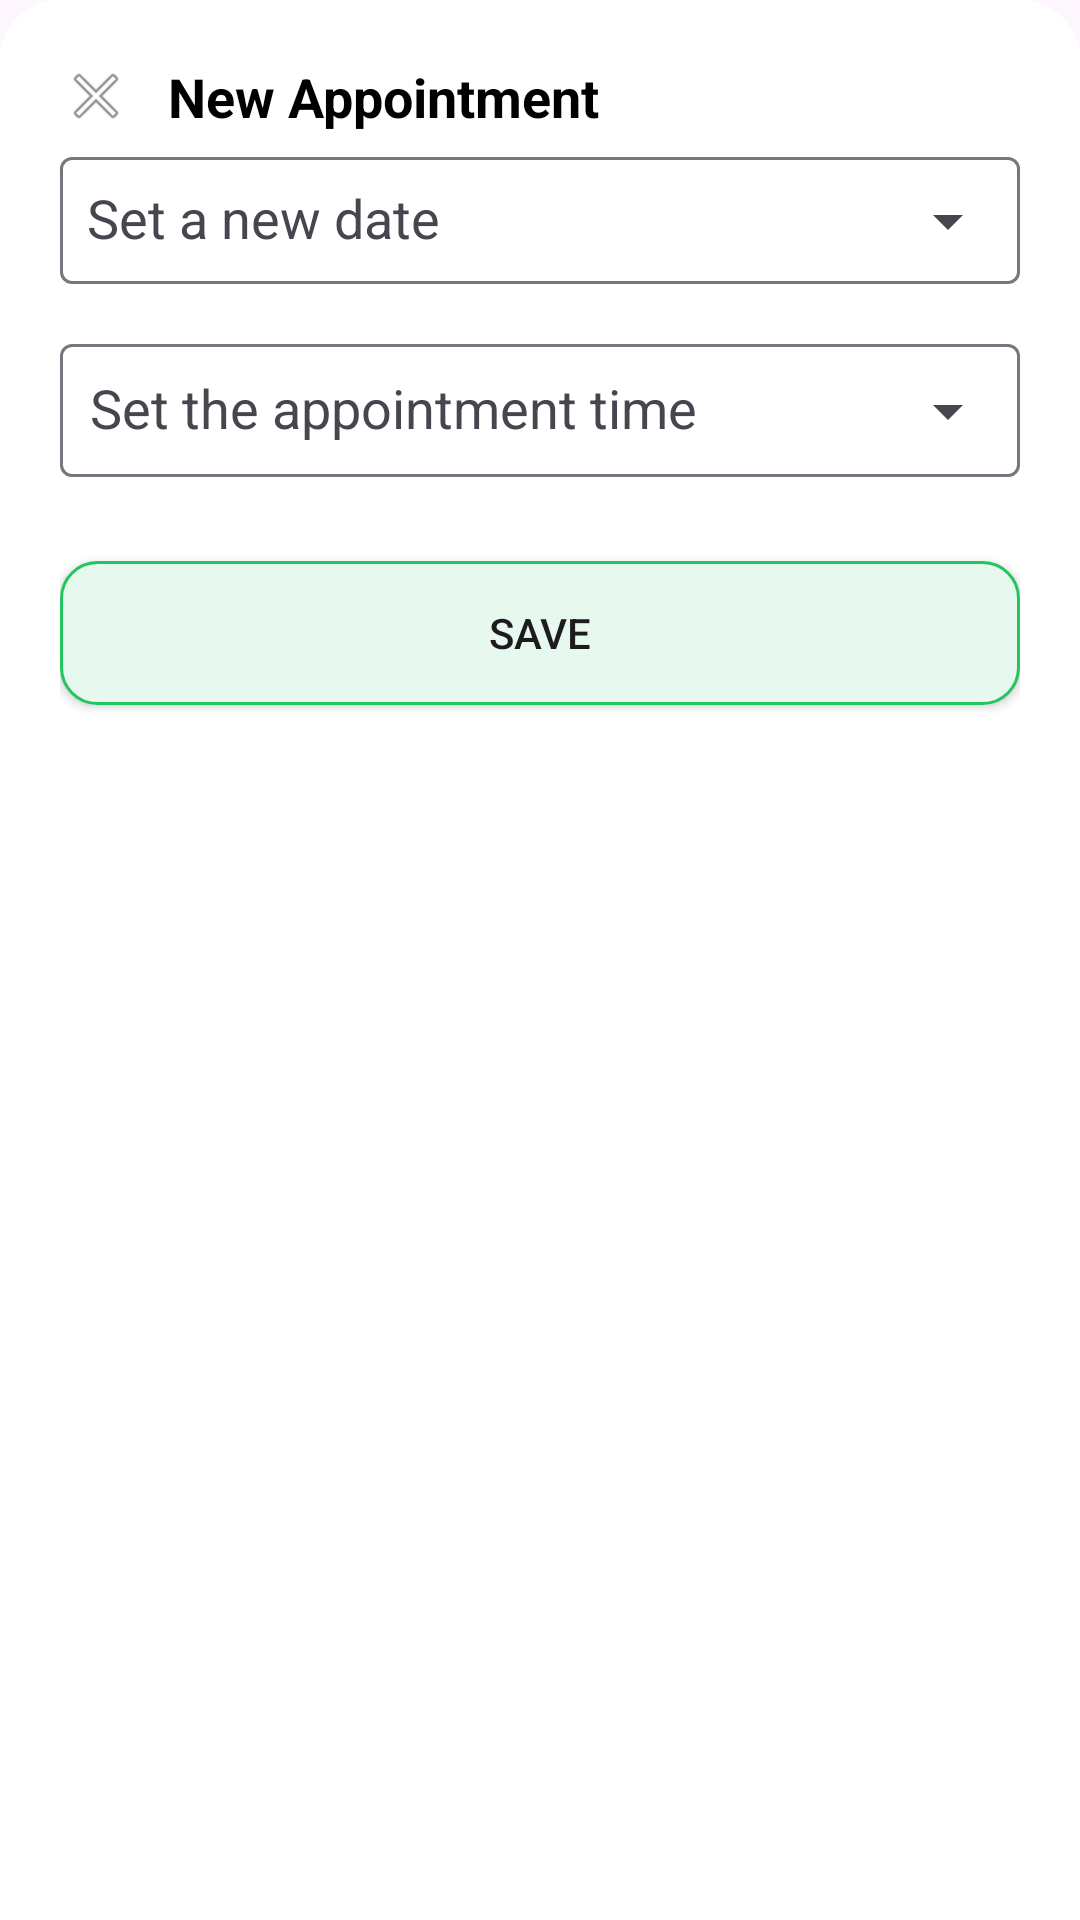

Where to tap for icons on this 1080 × 1920 app screen, as (x,y):
close clear cancel: (96,96)
